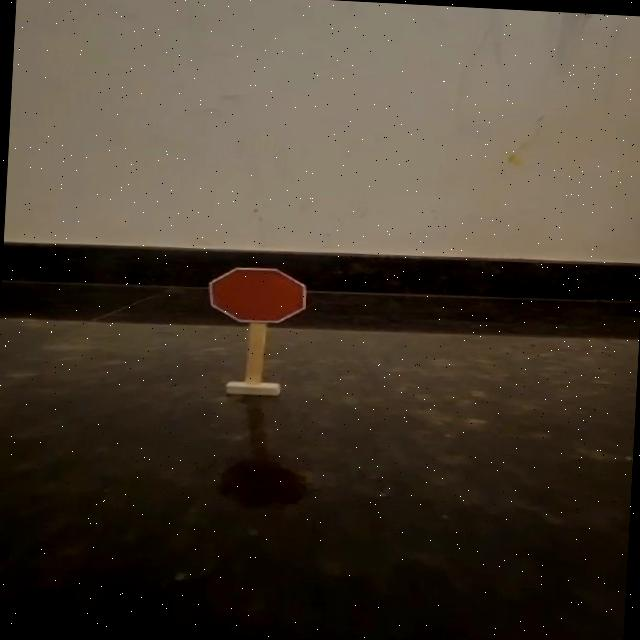Stop: (193, 255, 326, 334)
